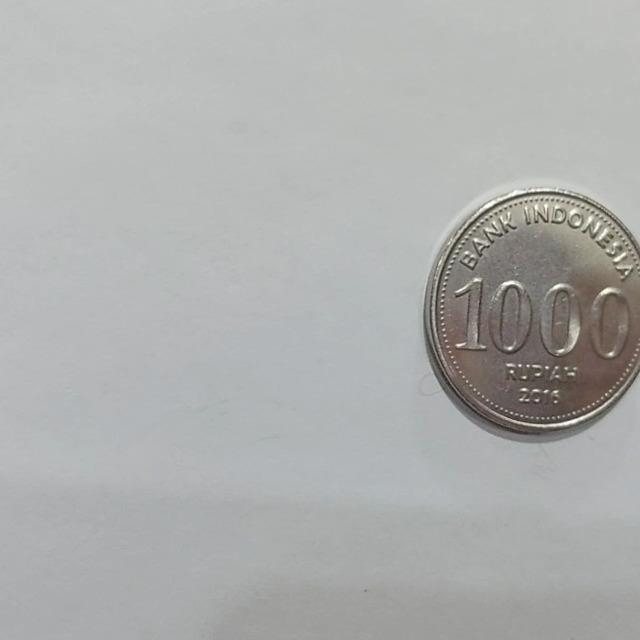Rp100: (421, 184, 640, 440)
